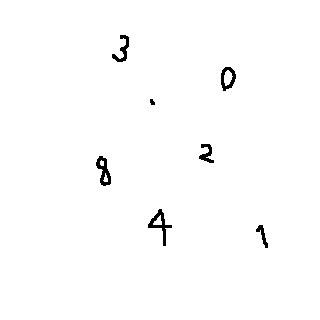.: (143, 94, 163, 116)
0: (214, 60, 246, 100)
1: (249, 218, 280, 250)
2: (198, 138, 219, 176)
3: (102, 28, 139, 76)
4: (136, 201, 184, 250)
8: (85, 151, 123, 200)
